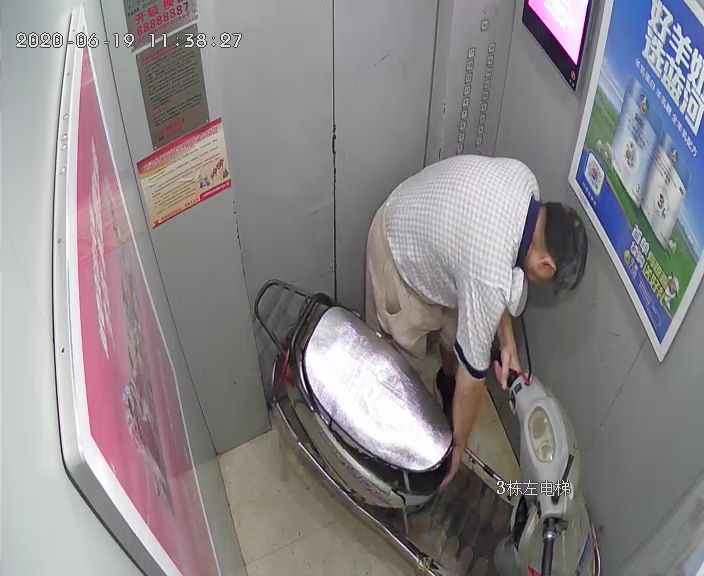Electric-bicycle: (256, 278, 602, 569)
